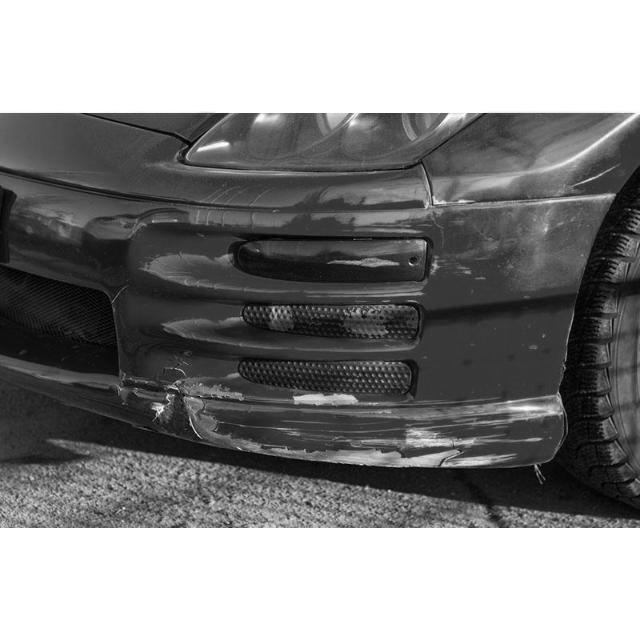front-bumper-dent: (108, 165, 624, 475)
